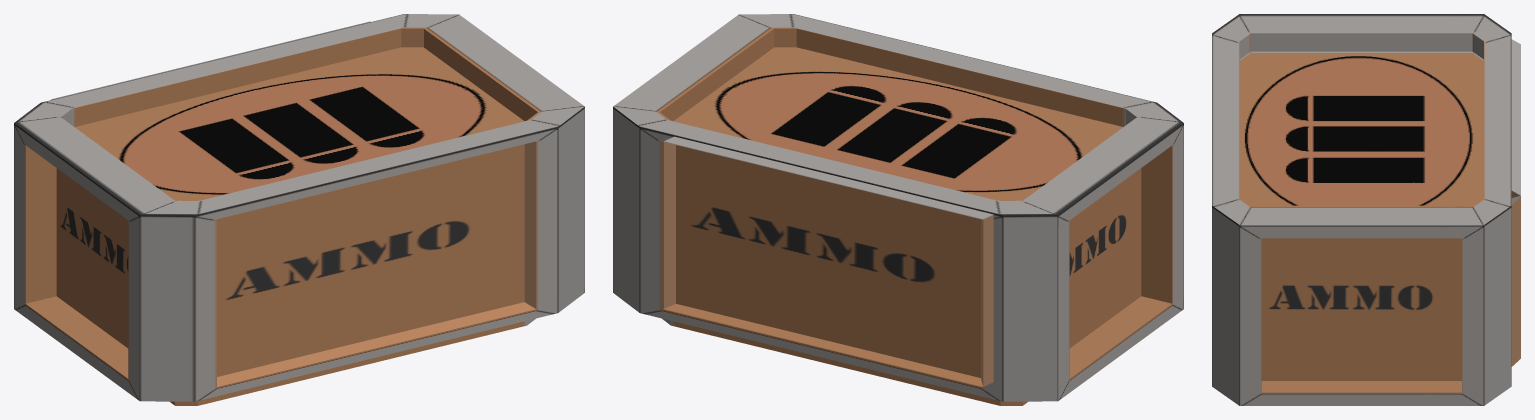
The model's file is AmmoBox.fbx.
The picture shows the model from 3 angles, left to right: view 1: azimuth 30°, elevation 25°; view 2: azimuth 150°, elevation 25°; view 3: azimuth 270°, elevation 25°; orthographic projection. The views are drawn at different scales.
Visible parts, largest first — view 1: AmmoBox; view 2: AmmoBox; view 3: AmmoBox.
Part boxes in pixels (x1=…): AmmoBox: x1=14, y1=14, x2=584, y2=405; AmmoBox: x1=613, y1=14, x2=1183, y2=405; AmmoBox: x1=1212, y1=14, x2=1520, y2=405.
Bounding box in the file's own units: 500 × 220 × 309.
